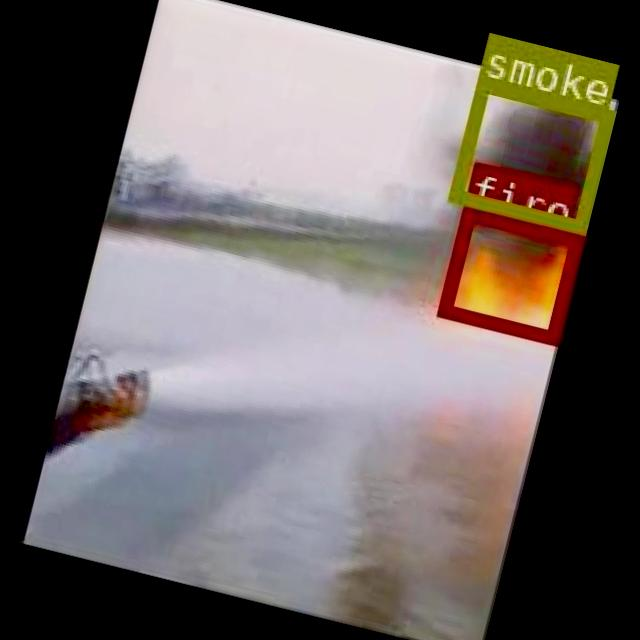fire: (437, 204, 582, 341)
smoke: (446, 74, 612, 230)
